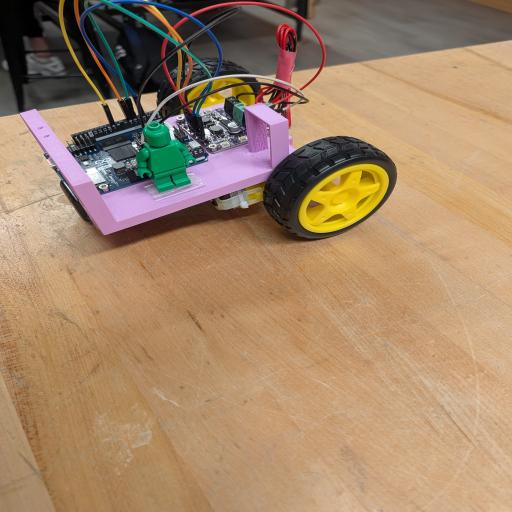Minifig: (136, 123, 196, 192)
